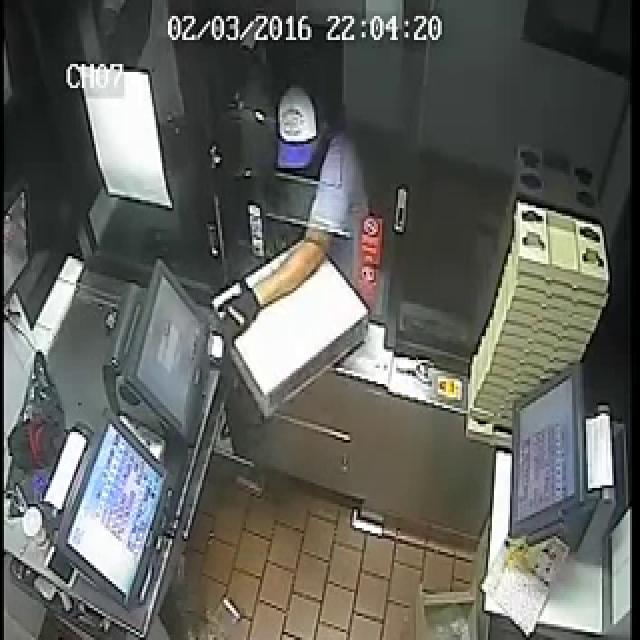burglary: (190, 3, 417, 579)
